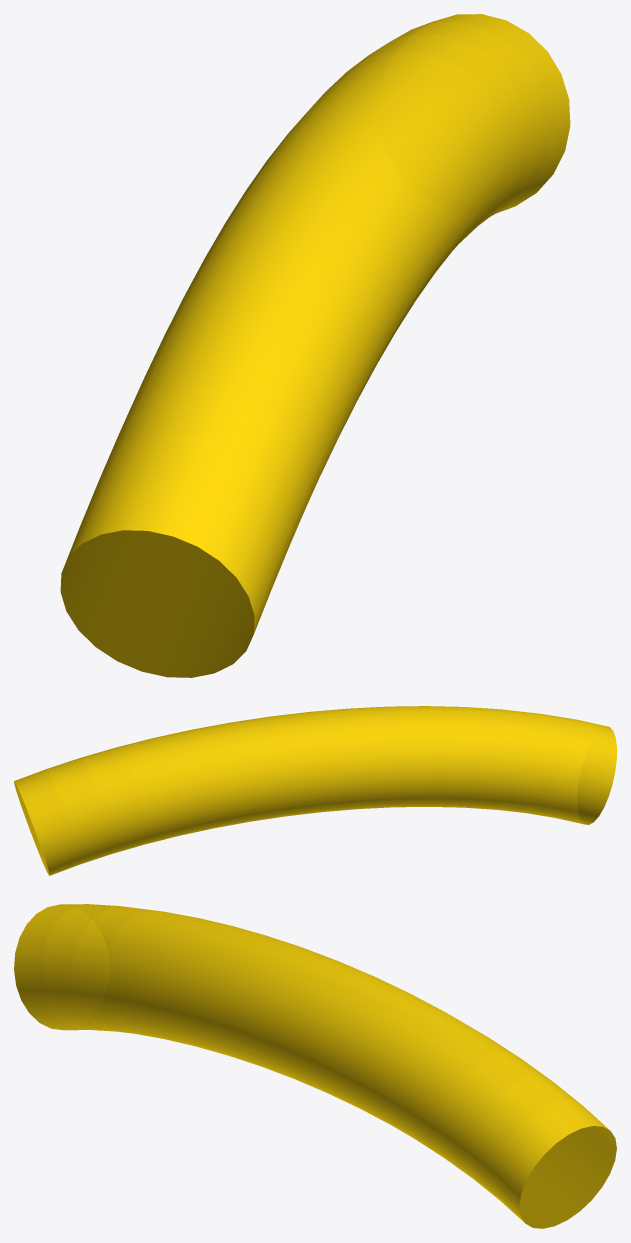
File: Event_421115418_track_142.fbx
3 views of the same model, one above another, from view 1: azimuth 30°, elevation 25°; view 2: azimuth 150°, elevation 25°; view 3: azimuth 270°, elevation 25° (orthographic). The views are drawn at different scales.
Parts seen in each view (by area): view 1: Model; view 2: Model; view 3: Model.
Boxes of the visible parts, left/top/right/bottom form: Model: left=60, top=14, right=570, bottom=677; Model: left=14, top=706, right=616, bottom=875; Model: left=14, top=904, right=616, bottom=1228.
Size of the model in its own units: 0.1936 by 0.0585 by 0.1915.
